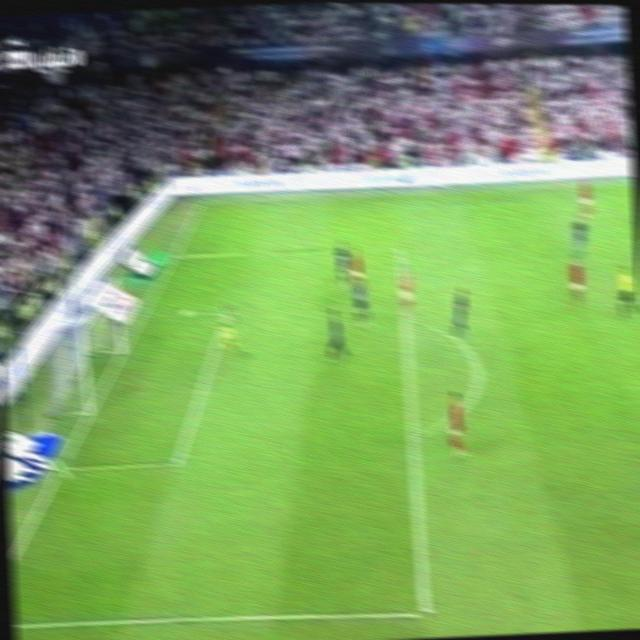bigarea_bottom_inner: (414, 599, 434, 624)
bigarea_top_inner: (388, 242, 409, 260)
bigarea_top_outter: (167, 248, 180, 261)
bottom_arc_area_intersection: (402, 426, 426, 447)
corner: (198, 198, 210, 205)
smallarea_bottom_inner: (168, 449, 188, 473)
smallarea_bottom_outter: (52, 457, 70, 480)
smallarea_top_inner: (214, 305, 238, 324)
top_arc_area_intersection: (398, 311, 419, 331)
